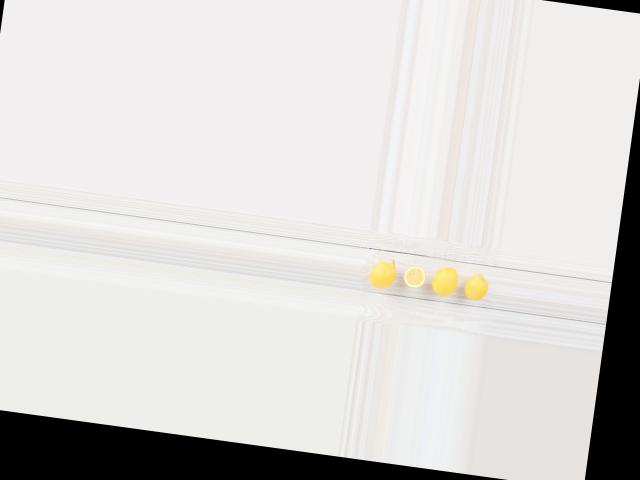lemon: (367, 254, 397, 291)
